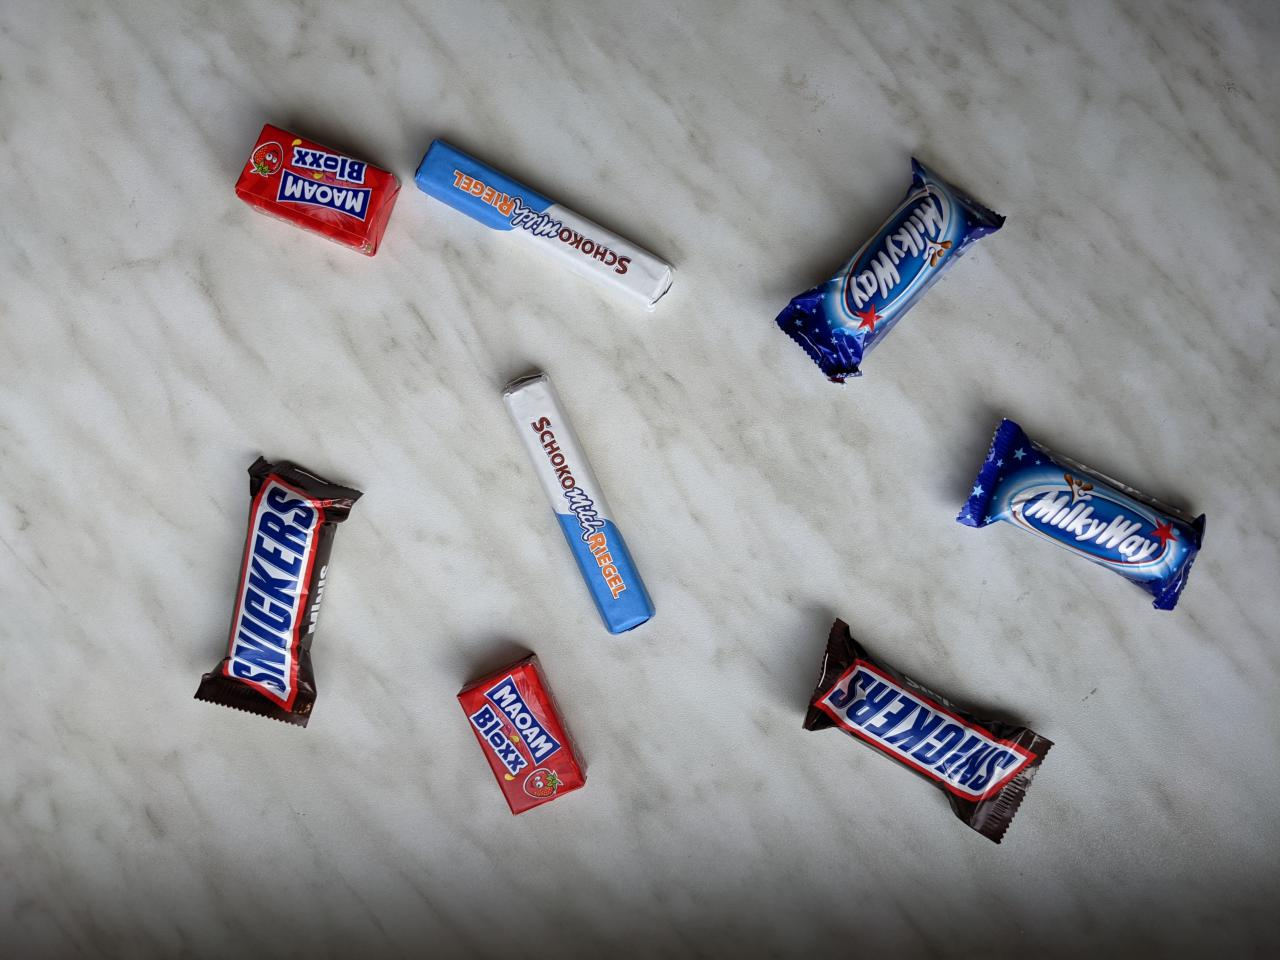MAOAM: (229, 117, 409, 262), (453, 646, 594, 822)
MilkyWay: (763, 149, 1015, 393), (951, 412, 1212, 618)
Schokoriegel: (409, 133, 684, 319), (496, 366, 664, 640)
Snickers: (798, 614, 1061, 851), (189, 452, 370, 732)
